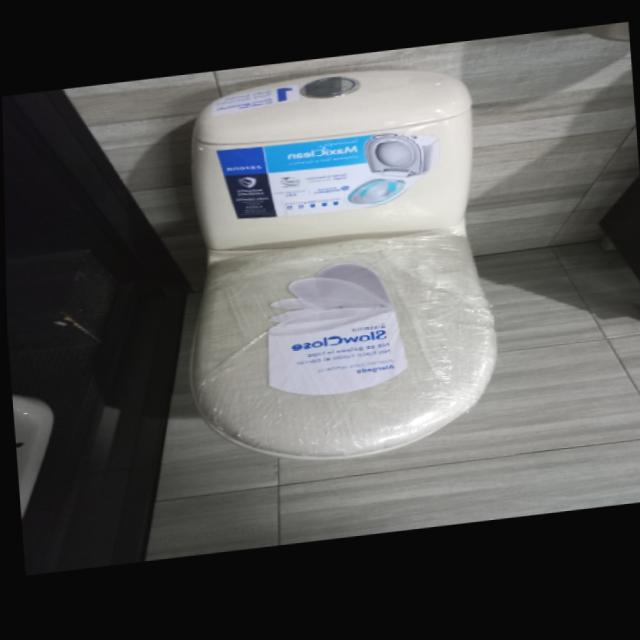toilet: (168, 62, 505, 480)
